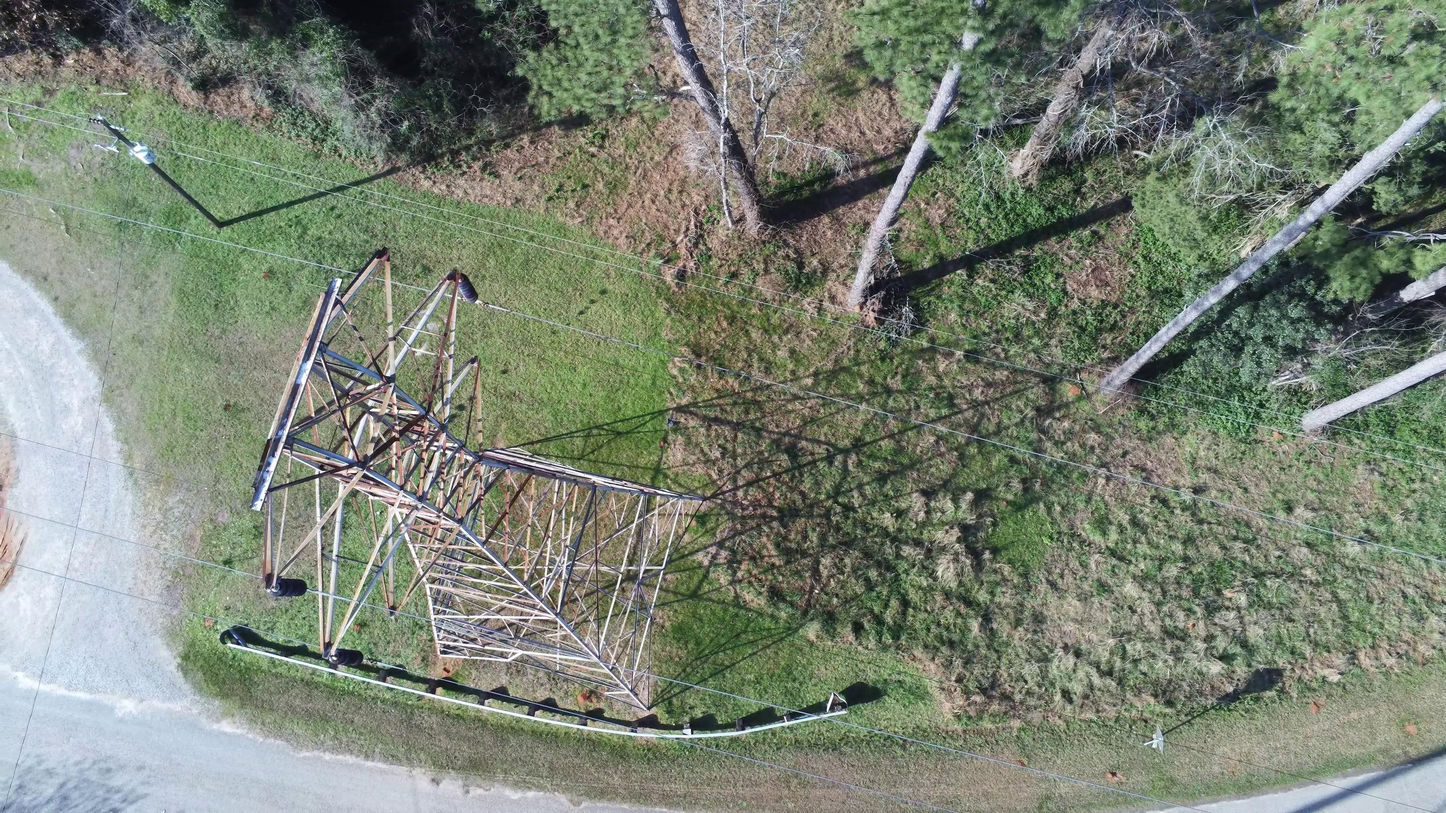power_tower: (249, 246, 706, 712)
